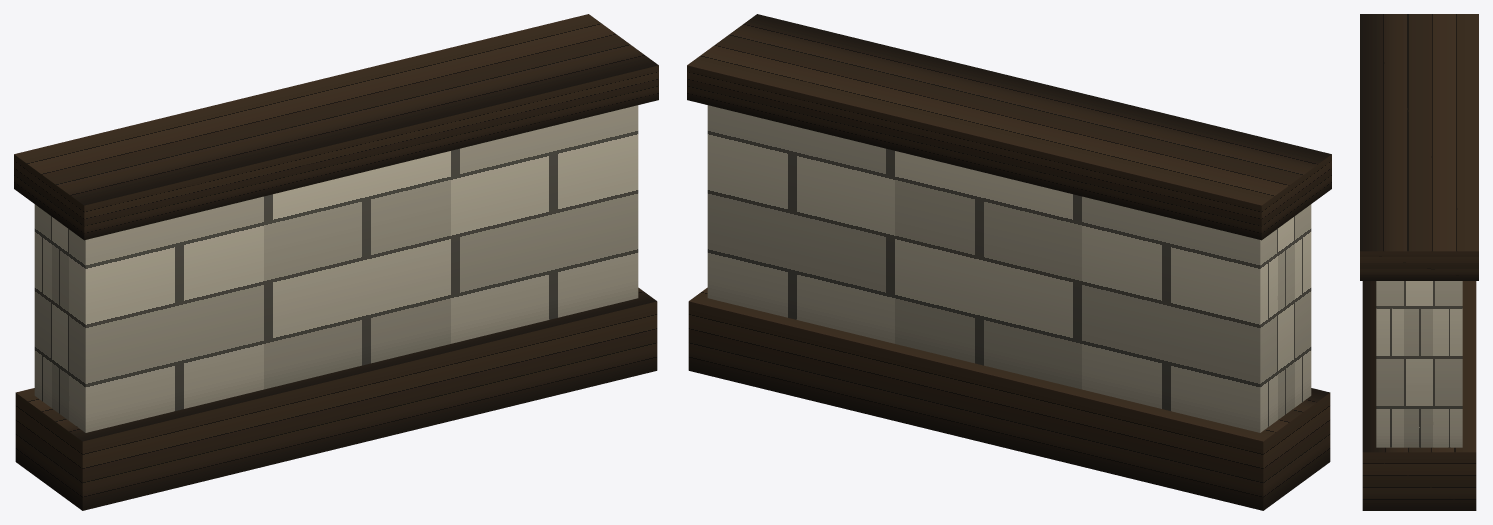
Rendered from wall_half_plaster.gltf.
The picture shows the model from 3 angles, left to right: view 1: azimuth 30°, elevation 25°; view 2: azimuth 150°, elevation 25°; view 3: azimuth 270°, elevation 25°; orthographic projection. The views are drawn at different scales.
Visible parts, largest first — view 1: wall_half_plaster; view 2: wall_half_plaster; view 3: wall_half_plaster.
Part boxes in pixels (x1=…): wall_half_plaster: x1=14, y1=14, x2=658, y2=510; wall_half_plaster: x1=687, y1=14, x2=1331, y2=510; wall_half_plaster: x1=1360, y1=14, x2=1478, y2=510.
Size of the model in its own units: 1.04 by 0.53 by 0.22.
1 material, 1 textured.
